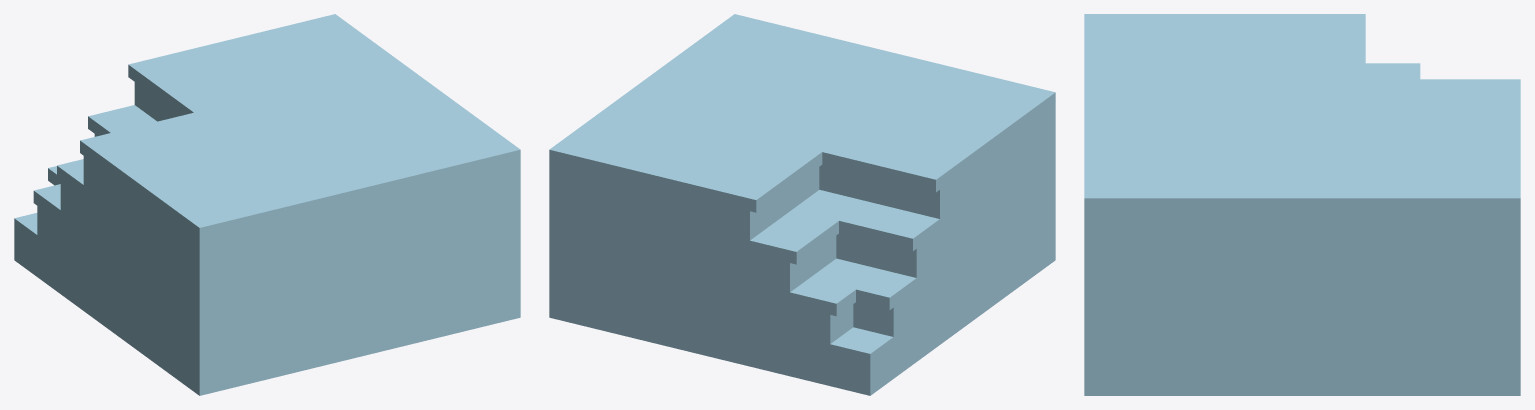
File: stairsFullCornerInner.fbx
3 renders of one model, left to right at view 1: azimuth 30°, elevation 25°; view 2: azimuth 150°, elevation 25°; view 3: azimuth 270°, elevation 25°, orthographic. The views are drawn at different scales.
Visible parts, largest first — view 1: stairsFullCornerInner; view 2: stairsFullCornerInner; view 3: stairsFullCornerInner.
Boxes of the visible parts, x1,y1,x2,y2 form: stairsFullCornerInner: [14, 14, 520, 395]; stairsFullCornerInner: [549, 14, 1055, 395]; stairsFullCornerInner: [1084, 14, 1520, 395].
Bounding box in the file's own units: 10 × 5 × 10.
